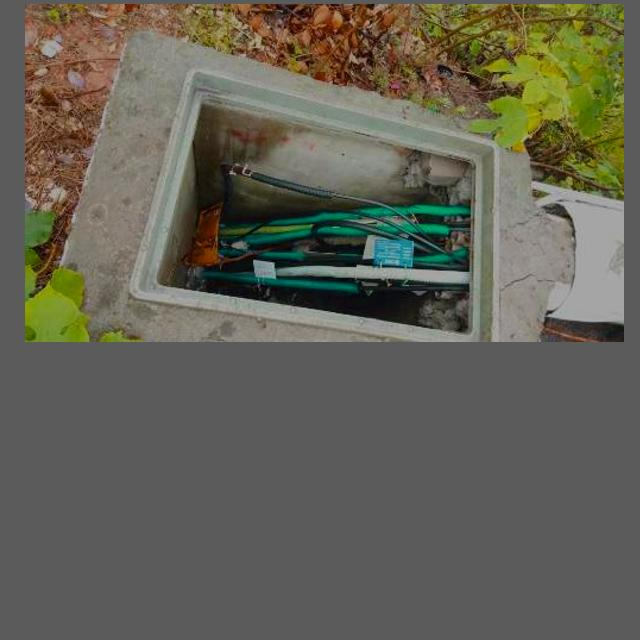lose: (128, 67, 500, 342)
